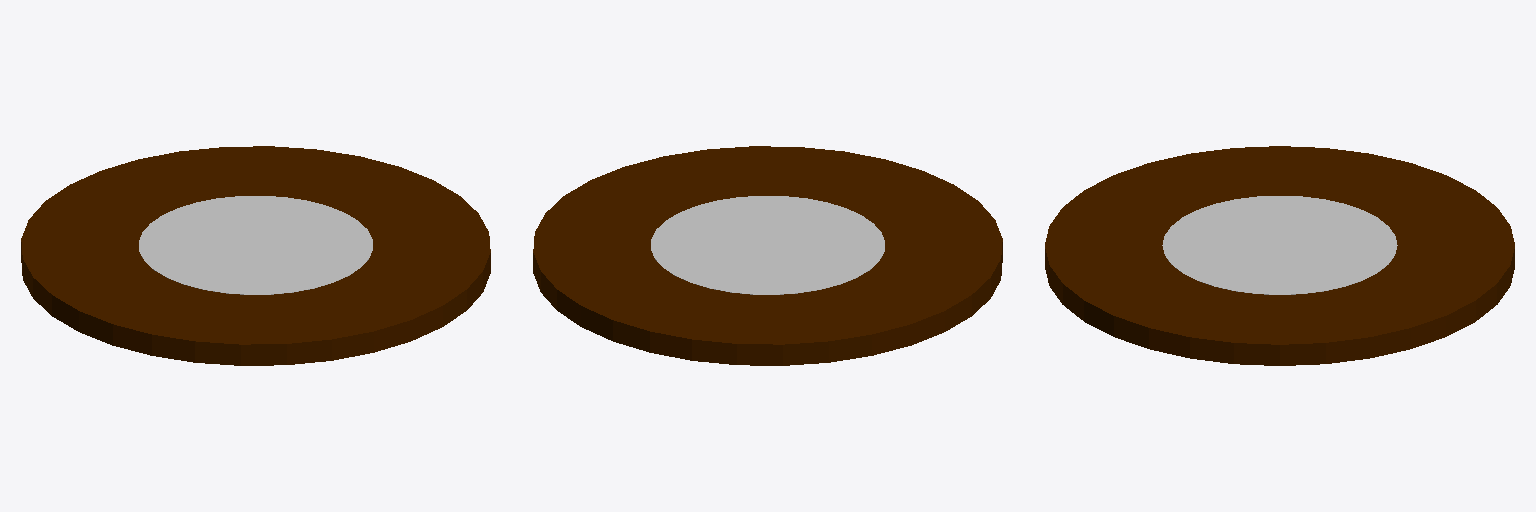
Rendered from target_1.obj.
The picture shows the model from 3 angles: view 1: azimuth 30°, elevation 25°; view 2: azimuth 150°, elevation 25°; view 3: azimuth 270°, elevation 25°; orthographic projection.
Visible parts, largest first — view 1: Cylinder, Cylinder.001; view 2: Cylinder, Cylinder.001; view 3: Cylinder, Cylinder.001.
Part boxes in pixels (bbox=[...]): Cylinder: bbox=[21, 146, 490, 365]; Cylinder.001: bbox=[139, 196, 372, 294]; Cylinder: bbox=[533, 146, 1002, 365]; Cylinder.001: bbox=[651, 196, 884, 294]; Cylinder: bbox=[1045, 146, 1514, 365]; Cylinder.001: bbox=[1162, 196, 1397, 294].
Bounding box in the file's own units: 0.2 × 0.0101 × 0.2.